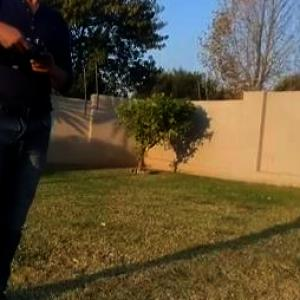follow: (0, 0, 78, 299)
